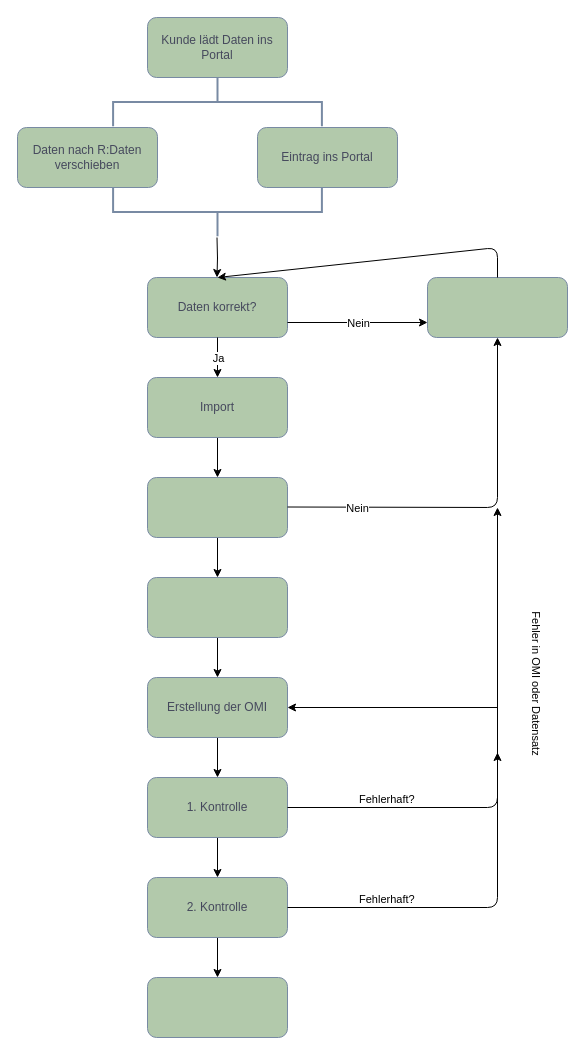
The diagram is 585 pixels wide and 1055 high, and some of its shapes have lost their labels. Here are the shapes that lost their labels. From the top down, the centre of each, then its label:
At pixel 497 307: "Daten korrigieren".
At pixel 217 507: "Richtiges Format Fälle korrekt Ampelsystem".
At pixel 217 607: "Export ins O. Verzeichnis".
At pixel 217 1007: "Upload FTP Server".
